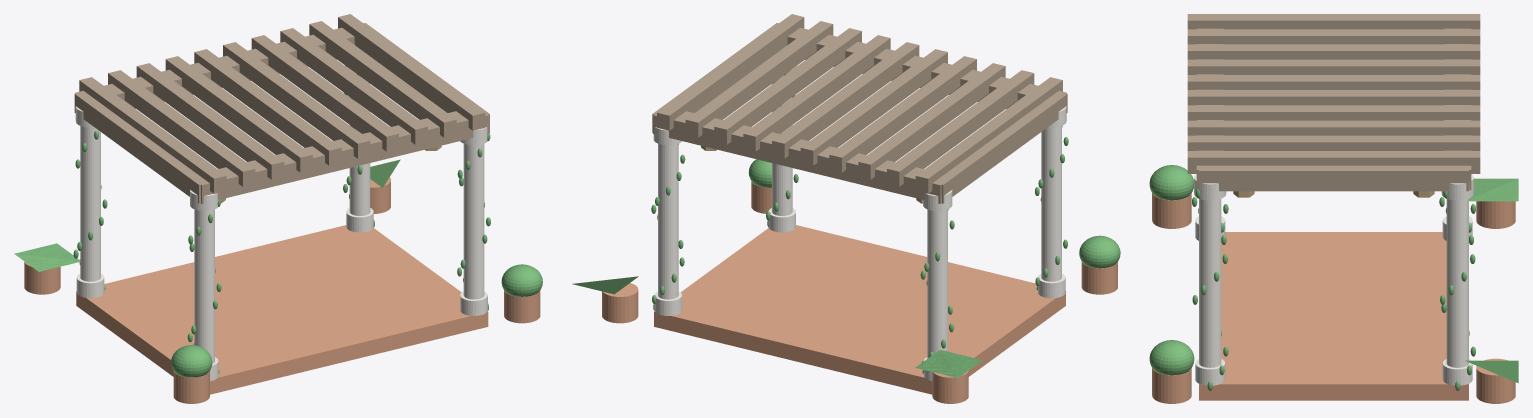
3 renders of one model, left to right at view 1: azimuth 30°, elevation 25°; view 2: azimuth 150°, elevation 25°; view 3: azimuth 270°, elevation 25°, orthographic. The views are drawn at different scales.
Parts seen in each view (by area): view 1: Tile_Floor, Main_Beam_Long_-1, Cross_Beam_3, Cross_Beam_10, Cross_Beam_6, Cross_Beam_2, Cross_Beam_9, Cross_Beam_7, Cross_Beam_4, Cross_Beam_8, Cross_Beam_5, Main_Beam_Trans_-1 (+17 smaller); view 2: Tile_Floor, Main_Beam_Long_1, Cross_Beam_9, Cross_Beam_8, Cross_Beam_5, Cross_Beam_2, Cross_Beam_4, Cross_Beam_10, Cross_Beam_6, Cross_Beam_7, Cross_Beam_3, Main_Beam_Trans_-1 (+17 smaller); view 3: Tile_Floor, Main_Beam_Trans_1, Cross_Beam_3, Cross_Beam_4, Cross_Beam_8, Cross_Beam_9, Cross_Beam_7, Cross_Beam_1, Cross_Beam_2, Cross_Beam_6, Cross_Beam_10, Cross_Beam_5 (+15 smaller).
Part boxes in pixels (left/top/right/bottom): Tile_Floor: left=76, top=225, right=488, bottom=394; Main_Beam_Long_-1: left=192, top=111, right=489, bottom=203; Cross_Beam_3: left=136, top=63, right=284, bottom=179; Cross_Beam_10: left=338, top=14, right=485, bottom=130; Cross_Beam_6: left=223, top=42, right=370, bottom=158; Cross_Beam_2: left=108, top=70, right=255, bottom=186; Cross_Beam_9: left=309, top=21, right=456, bottom=137; Cross_Beam_7: left=251, top=35, right=398, bottom=151; Cross_Beam_4: left=165, top=56, right=312, bottom=172; Cross_Beam_8: left=280, top=28, right=427, bottom=144; Cross_Beam_5: left=194, top=49, right=341, bottom=165; Main_Beam_Trans_-1: left=74, top=91, right=207, bottom=203; Tile_Floor: left=654, top=225, right=1065, bottom=394; Main_Beam_Long_1: left=653, top=111, right=948, bottom=203; Cross_Beam_9: left=685, top=21, right=833, bottom=137; Cross_Beam_8: left=714, top=28, right=861, bottom=144; Cross_Beam_5: left=800, top=49, right=947, bottom=165; Cross_Beam_2: left=887, top=70, right=1034, bottom=186; Cross_Beam_4: left=829, top=56, right=976, bottom=172; Cross_Beam_10: left=657, top=14, right=804, bottom=130; Cross_Beam_6: left=772, top=42, right=919, bottom=158; Cross_Beam_7: left=743, top=35, right=890, bottom=151; Cross_Beam_3: left=858, top=63, right=1005, bottom=179; Main_Beam_Trans_-1: left=934, top=93, right=1067, bottom=203; Tile_Floor: left=1199, top=232, right=1468, bottom=400; Main_Beam_Trans_1: left=1199, top=165, right=1468, bottom=191; Cross_Beam_3: left=1187, top=44, right=1480, bottom=59; Cross_Beam_4: left=1187, top=59, right=1480, bottom=74; Cross_Beam_8: left=1187, top=120, right=1480, bottom=135; Cross_Beam_9: left=1187, top=135, right=1480, bottom=150; Cross_Beam_7: left=1187, top=105, right=1480, bottom=120; Cross_Beam_1: left=1187, top=14, right=1480, bottom=29; Cross_Beam_2: left=1187, top=29, right=1480, bottom=44; Cross_Beam_6: left=1187, top=90, right=1480, bottom=105; Cross_Beam_10: left=1187, top=151, right=1480, bottom=173; Cross_Beam_5: left=1187, top=75, right=1480, bottom=89.
Bounding box in the file's own units: 5.38 × 2.93 × 4.1.
